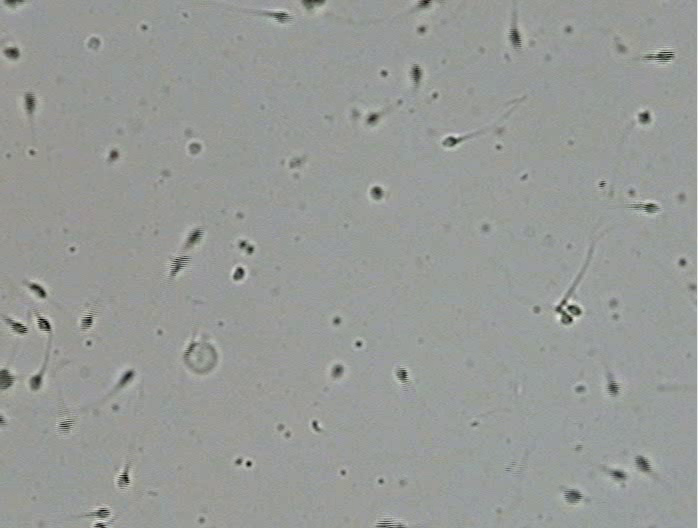Impurity: (183, 342, 219, 373), (87, 37, 101, 48)
S: (170, 256, 190, 276), (28, 282, 47, 299), (1, 368, 15, 389), (509, 28, 523, 49), (634, 456, 651, 473), (563, 489, 582, 504), (23, 93, 37, 113), (186, 229, 203, 245), (37, 315, 52, 333), (10, 321, 28, 335), (59, 418, 74, 434), (608, 468, 627, 480), (120, 370, 134, 386), (80, 313, 93, 330), (274, 11, 292, 23), (410, 65, 422, 83), (656, 50, 674, 62), (29, 375, 42, 391), (117, 473, 130, 489), (3, 1, 26, 10), (3, 47, 20, 59), (607, 380, 620, 395), (376, 519, 395, 528), (331, 364, 343, 378), (396, 367, 408, 381), (371, 186, 383, 200), (95, 507, 110, 518), (442, 136, 457, 147), (302, 1, 325, 8), (643, 203, 659, 213), (233, 267, 245, 280), (638, 111, 650, 124), (366, 113, 378, 125), (560, 313, 573, 324), (568, 305, 581, 316), (189, 143, 201, 154), (417, 1, 431, 9), (109, 150, 120, 160), (93, 522, 106, 528), (1, 416, 8, 426)
